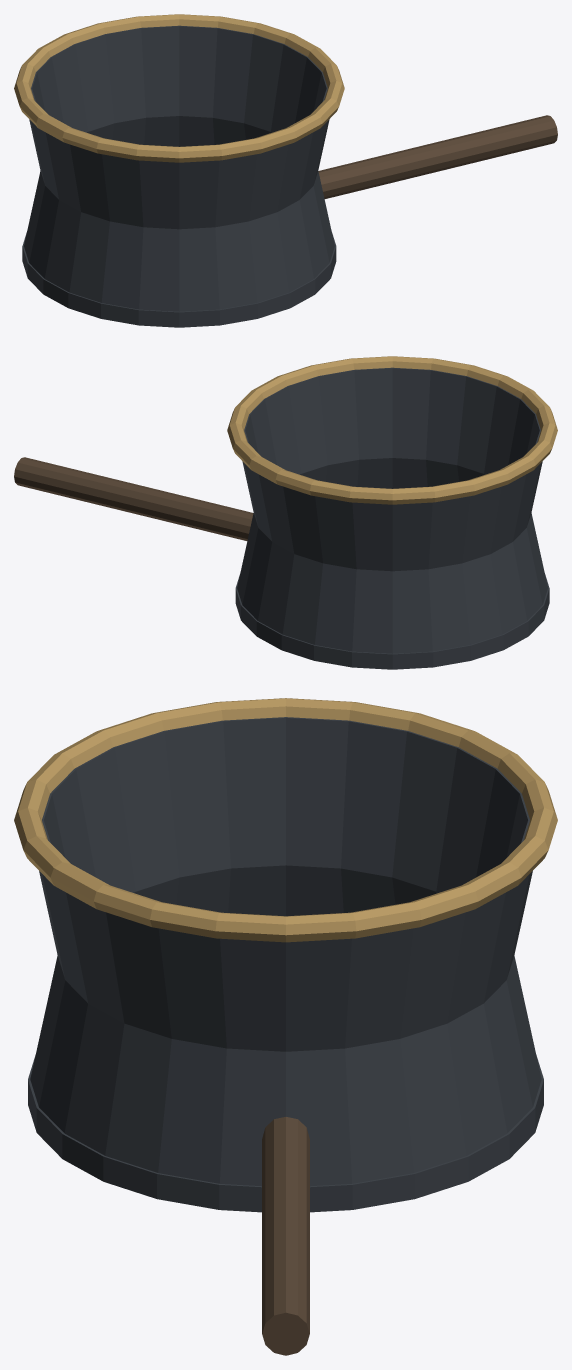
The picture shows the model from 3 angles, top to bottom: view 1: azimuth 30°, elevation 25°; view 2: azimuth 150°, elevation 25°; view 3: azimuth 270°, elevation 25°; orthographic projection. The views are drawn at different scales.
Parts seen in each view (by area): view 1: TV-273 Road Pan; view 2: TV-273 Road Pan; view 3: TV-273 Road Pan.
Boxes of the visible parts, left/top/right/bottom form: TV-273 Road Pan: left=14, top=14, right=557, bottom=327; TV-273 Road Pan: left=14, top=356, right=557, bottom=669; TV-273 Road Pan: left=14, top=698, right=557, bottom=1355.
Bounding box in the file's own units: 0.4919 × 0.165 × 0.2739.
